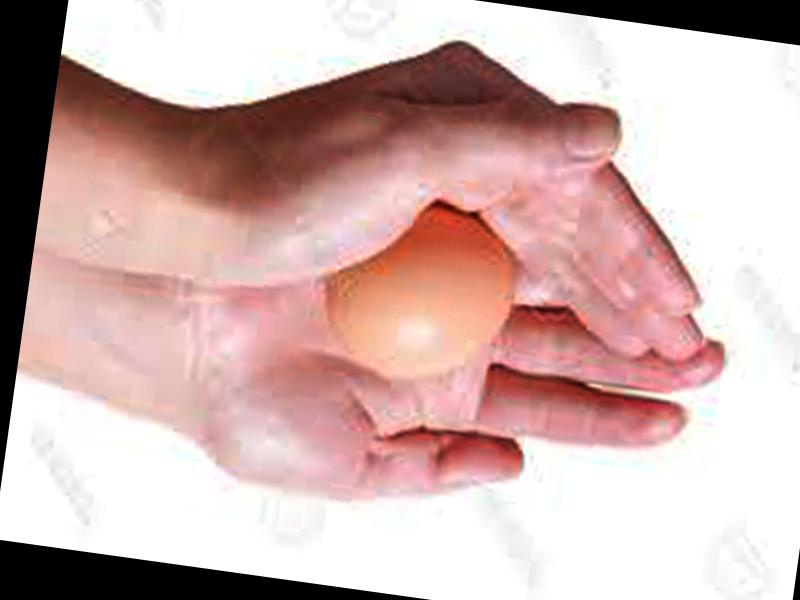Eggs: (327, 197, 522, 383)
